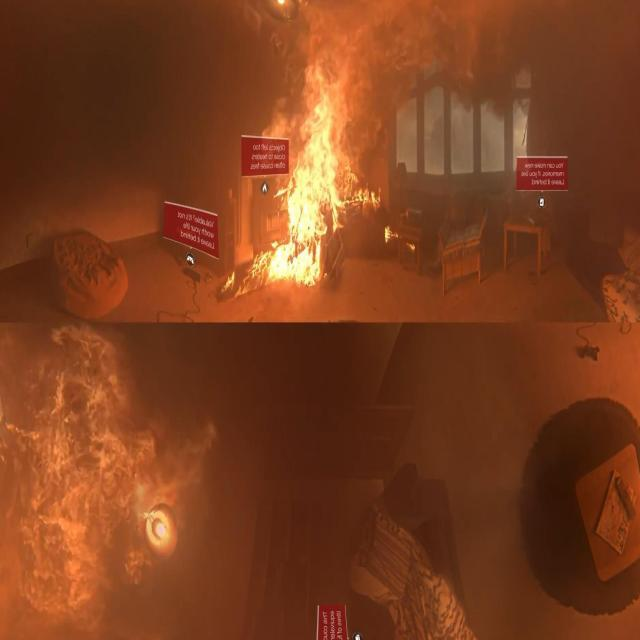smoke: (230, 58, 373, 292)
